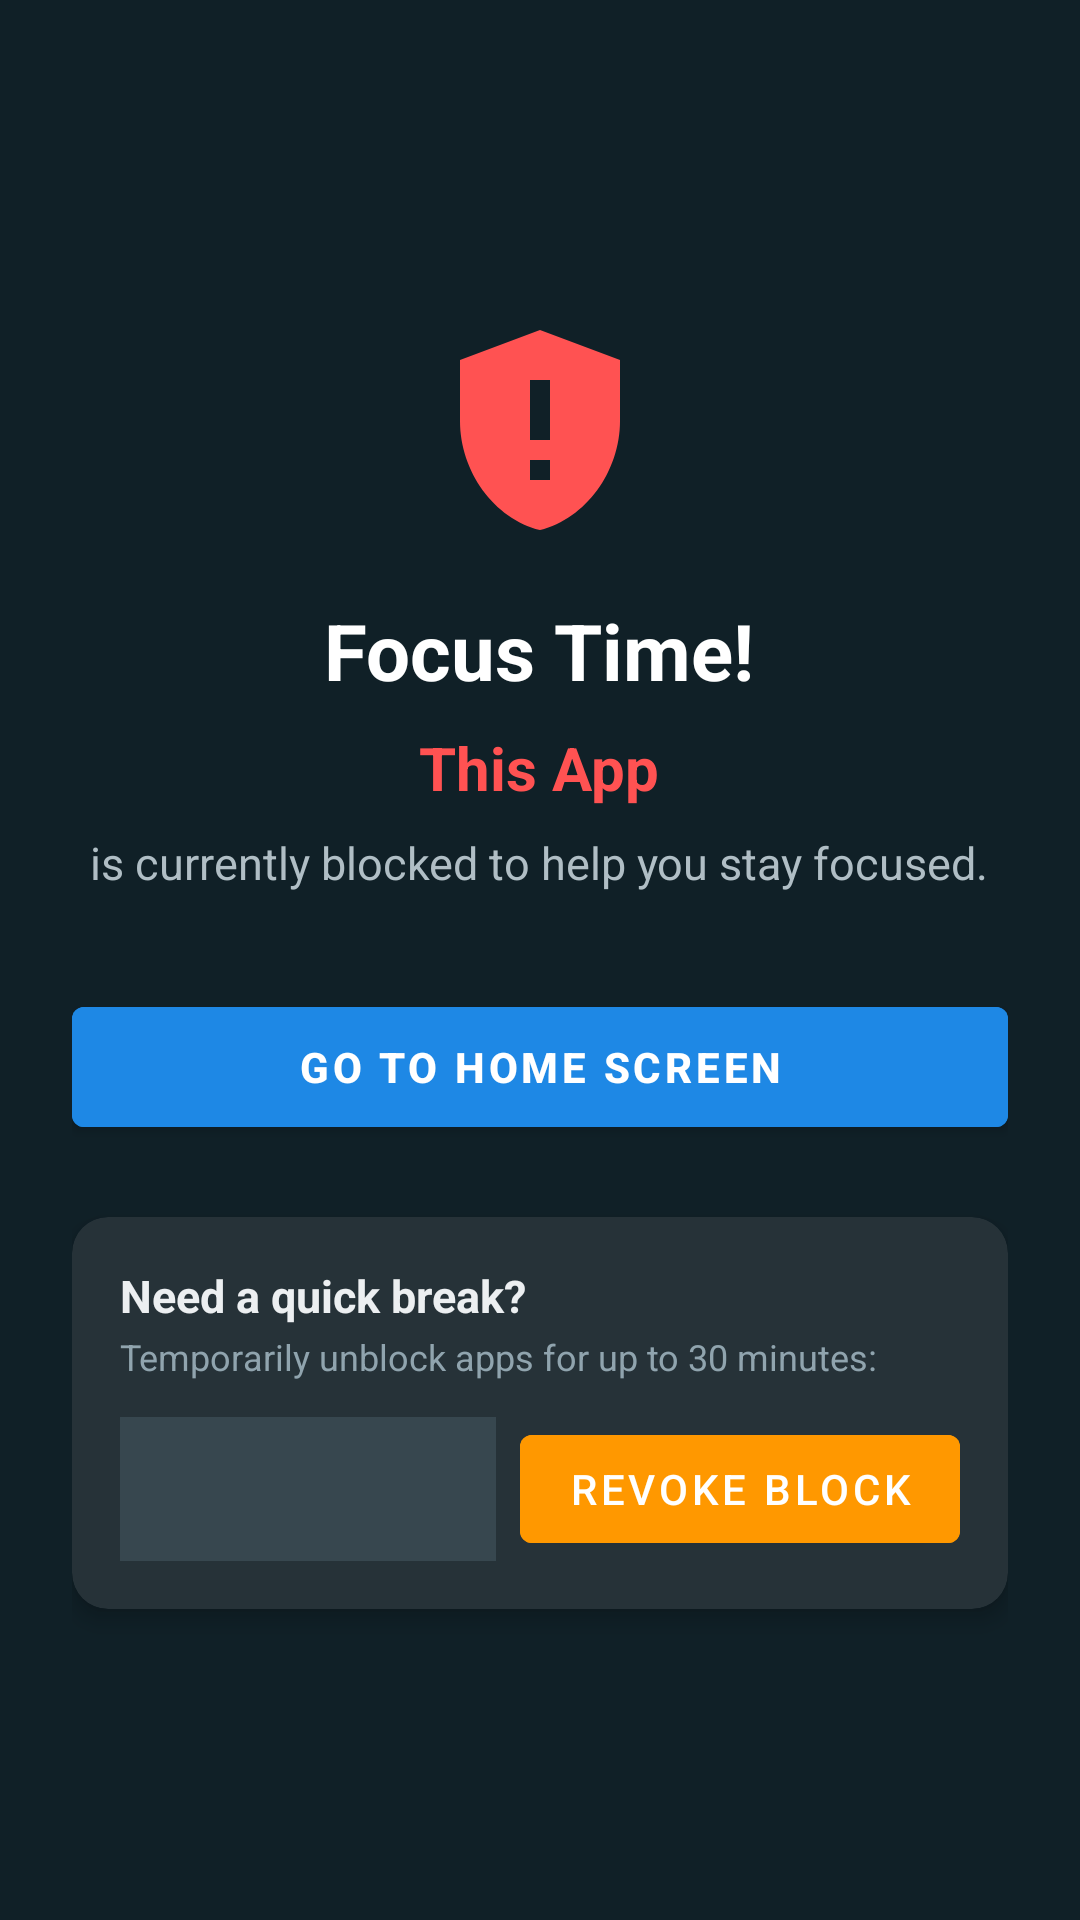

Icon bounding boxes for this 1080x1920 phone screenshot, format (x1, y1, x2, y2):
Blocked: (460, 330, 620, 530)
